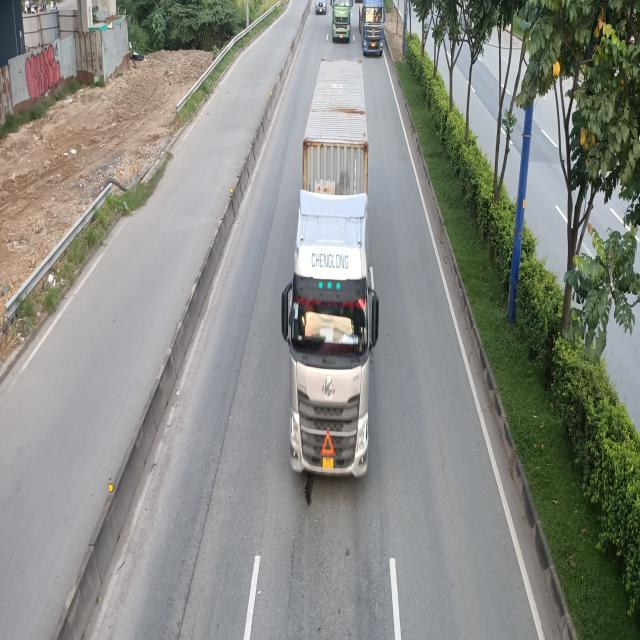container: (278, 62, 376, 482), (358, 0, 385, 56), (332, 0, 354, 43)
